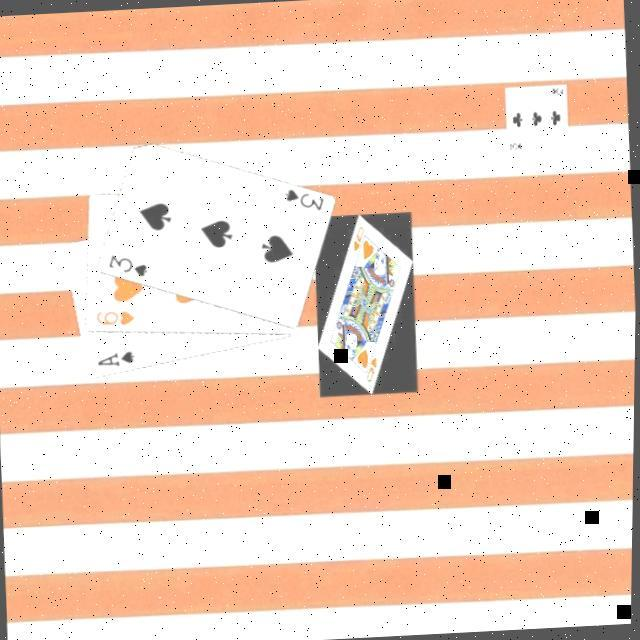3S: (281, 183, 329, 215), (106, 249, 152, 281)
6H: (94, 305, 139, 329)
AS: (96, 347, 139, 371)
